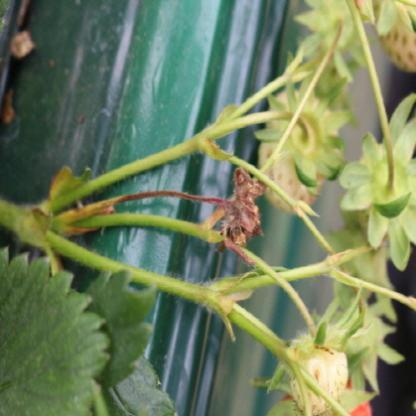Strawberry_Gray_Mold: (212, 166, 270, 266)
